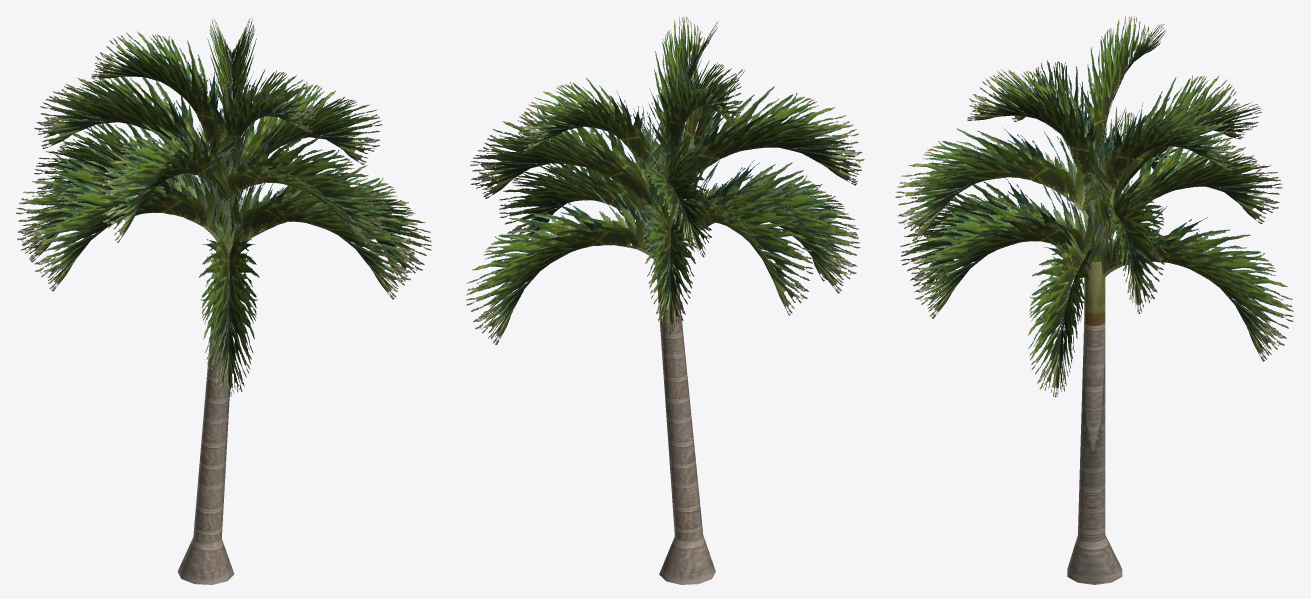
Rendered from adonidia.glb.
3 renders of one model, left to right at view 1: azimuth 30°, elevation 25°; view 2: azimuth 150°, elevation 25°; view 3: azimuth 270°, elevation 25°, orthographic.
Visible parts, largest first — view 1: Mesh1 halfleave1 palmfronmanila1 manilafronnew1 W3D_Palma_Ad, Mesh21 P_trunck1 W3D_Palma_Adonidia___Darrell_Smith1 Model; view 2: Mesh1 halfleave1 palmfronmanila1 manilafronnew1 W3D_Palma_Ad, Mesh21 P_trunck1 W3D_Palma_Adonidia___Darrell_Smith1 Model; view 3: Mesh1 halfleave1 palmfronmanila1 manilafronnew1 W3D_Palma_Ad, Mesh21 P_trunck1 W3D_Palma_Adonidia___Darrell_Smith1 Model.
Boxes of the visible parts, <box> form: Mesh1 halfleave1 palmfronmanila1 manilafronnew1 W3D_Palma_Ad: <box>15,18,432,396</box>; Mesh21 P_trunck1 W3D_Palma_Adonidia___Darrell_Smith1 Model: <box>177,242,234,584</box>; Mesh1 halfleave1 palmfronmanila1 manilafronnew1 W3D_Palma_Ad: <box>465,16,864,344</box>; Mesh21 P_trunck1 W3D_Palma_Adonidia___Darrell_Smith1 Model: <box>657,264,715,584</box>; Mesh1 halfleave1 palmfronmanila1 manilafronnew1 W3D_Palma_Ad: <box>895,16,1293,397</box>; Mesh21 P_trunck1 W3D_Palma_Adonidia___Darrell_Smith1 Model: <box>1067,261,1122,584</box>.
Size of the model in its own units: 2.19 by 3.02 by 2.09.
3 materials, 3 textured.
